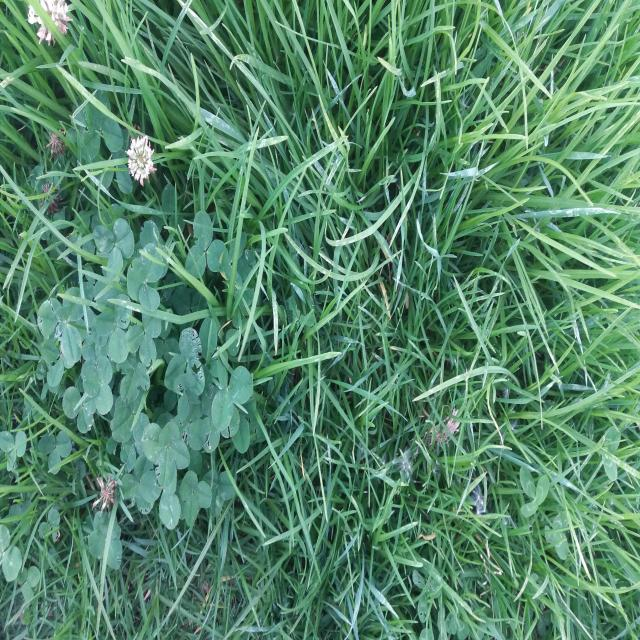Four Leaf Clover: (141, 421, 190, 488)
